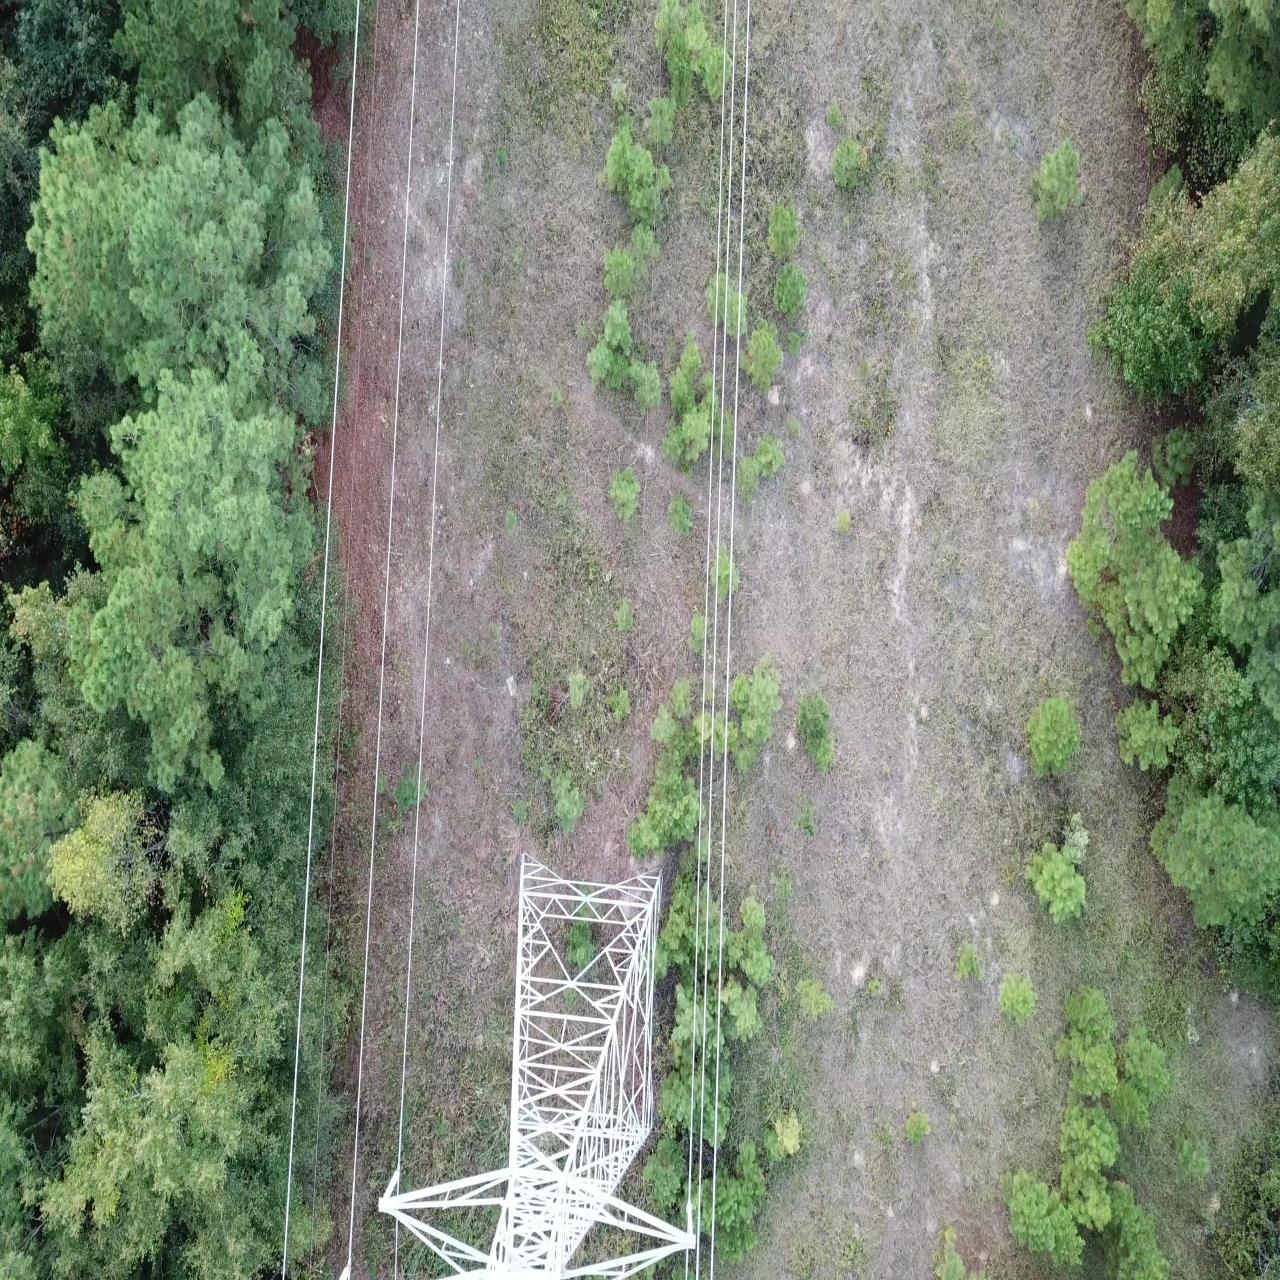cable: (282, 0, 360, 1279), (348, 0, 420, 1260), (309, 0, 379, 1279), (399, 0, 459, 1165), (696, 0, 736, 1279), (710, 0, 750, 1279), (688, 0, 727, 1198), (631, 0, 663, 878), (339, 1261, 352, 1279), (394, 1219, 397, 1279), (686, 1250, 688, 1279), (619, 1180, 620, 1199)
tower_lattice: (379, 851, 696, 1279)
